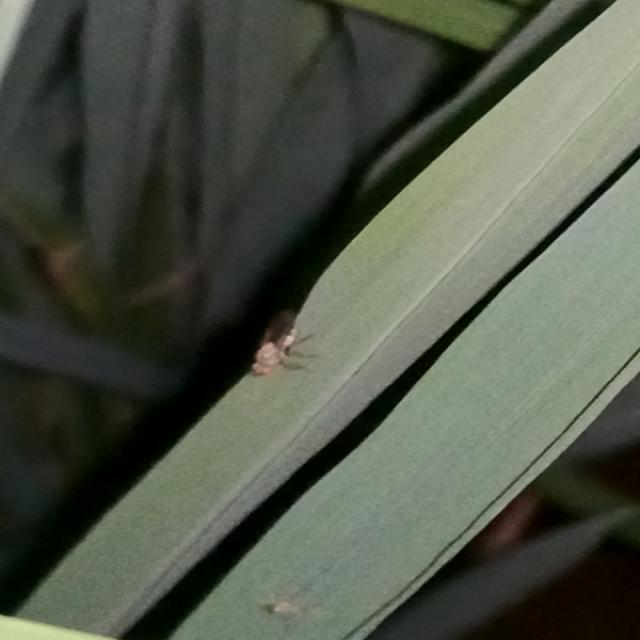healthy: (242, 302, 323, 384)
